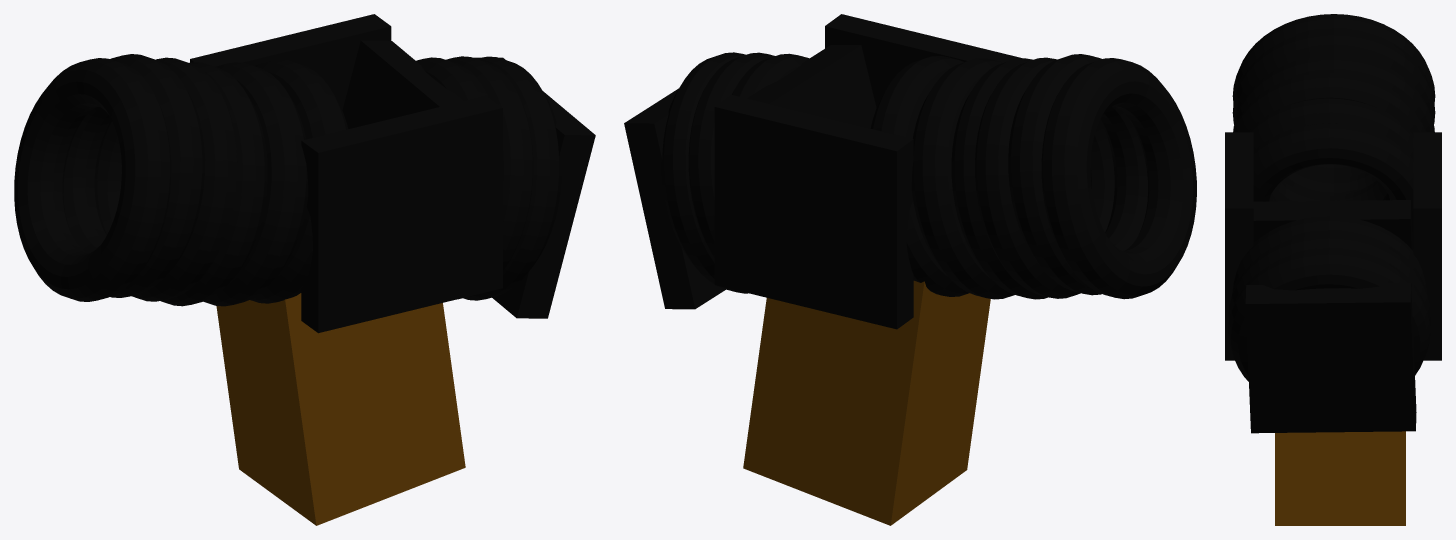
Rendered from Cannon.fbx.
The picture shows the model from 3 angles, left to right: view 1: azimuth 30°, elevation 25°; view 2: azimuth 150°, elevation 25°; view 3: azimuth 270°, elevation 25°; orthographic projection. The views are drawn at different scales.
Visible parts, largest first — view 1: Cube.002, Cube; view 2: Cube.002, Cube; view 3: Cube.002, Cube.
Boxes of the visible parts, bbox=[...] form: Cube.002: bbox=[14, 14, 595, 333]; Cube: bbox=[216, 293, 465, 525]; Cube.002: bbox=[624, 14, 1196, 329]; Cube: bbox=[743, 280, 990, 525]; Cube.002: bbox=[1225, 14, 1441, 433]; Cube: bbox=[1275, 431, 1405, 525].
Bounding box in the file's own units: 680 × 613 × 302.
